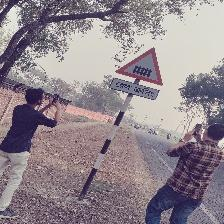Rail-crossing: (110, 47, 164, 100)
